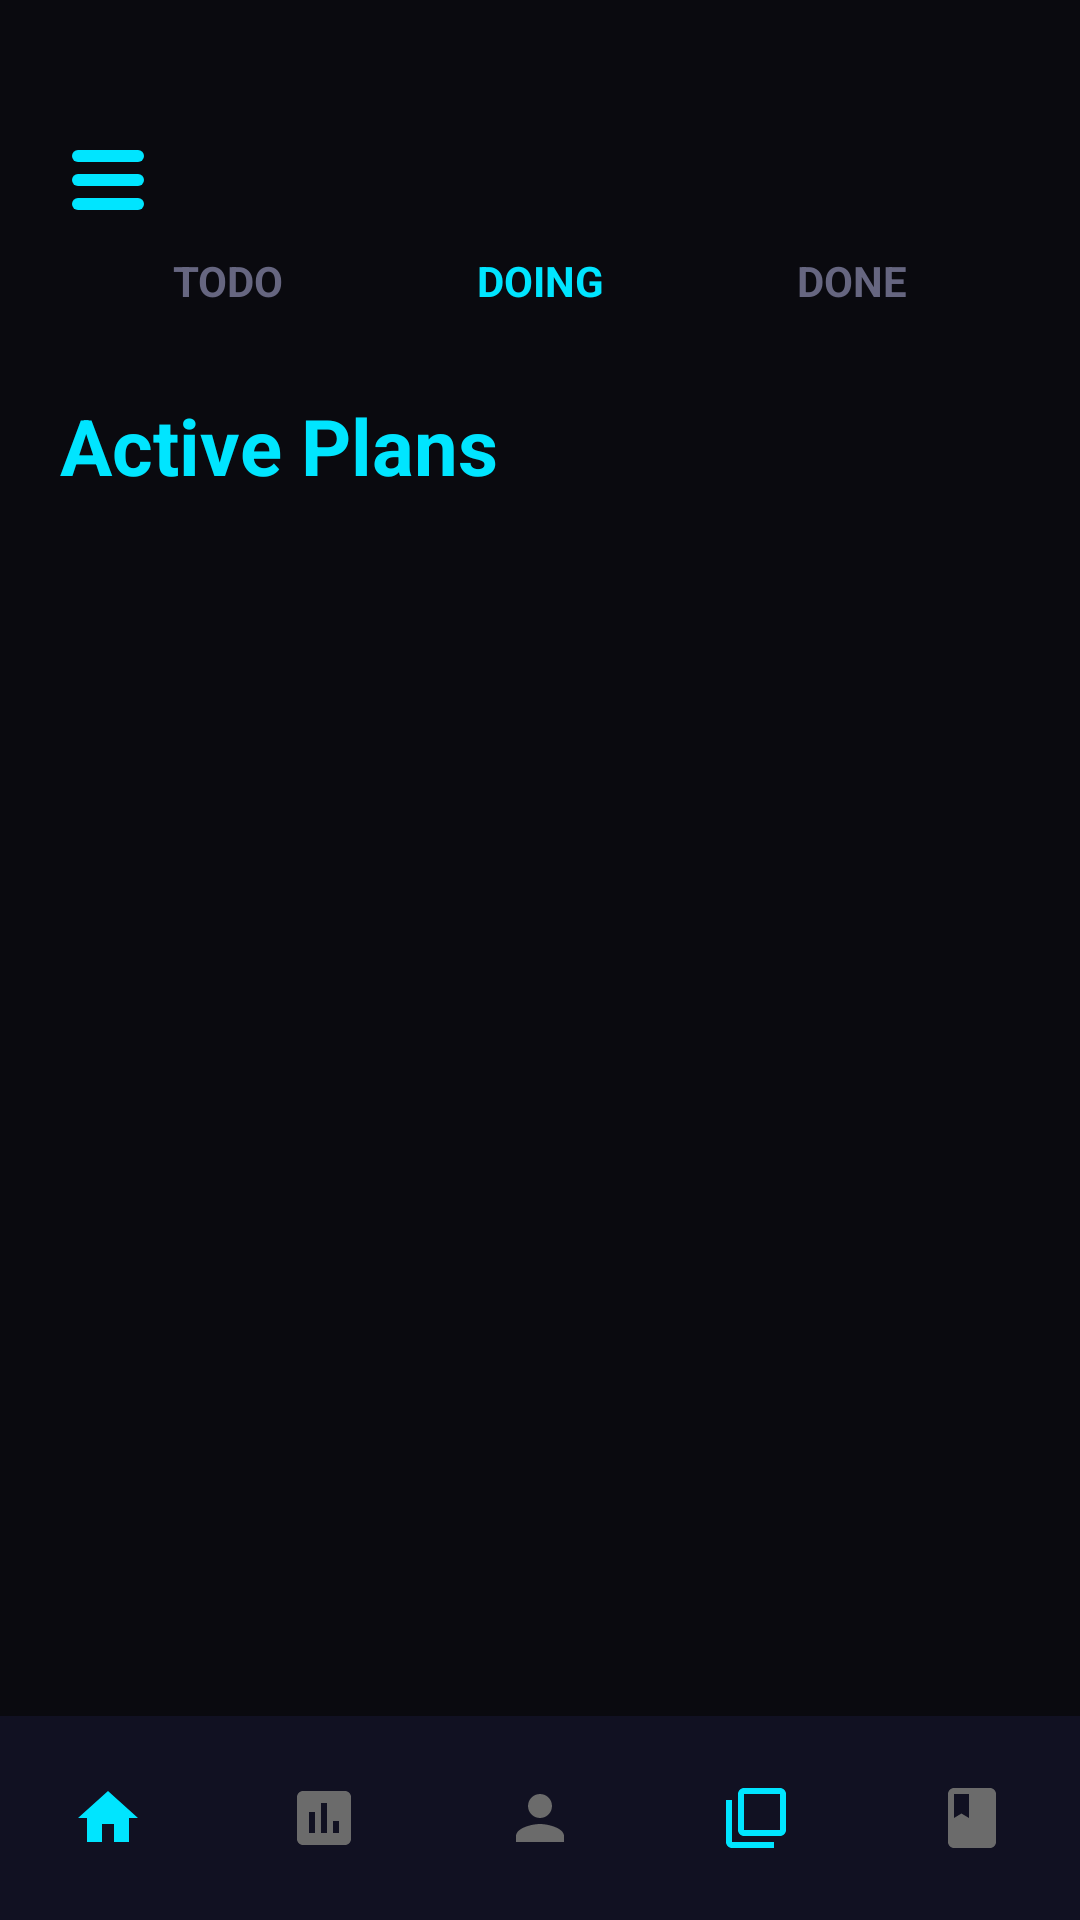

Named icons in this screenshot (1080 x 1920) and their centers, (x,y):
book: (972,1818)
chart: (324,1818)
home: (108,1816)
menu: (108,180)
modules: (756,1818)
person: (540,1818)
